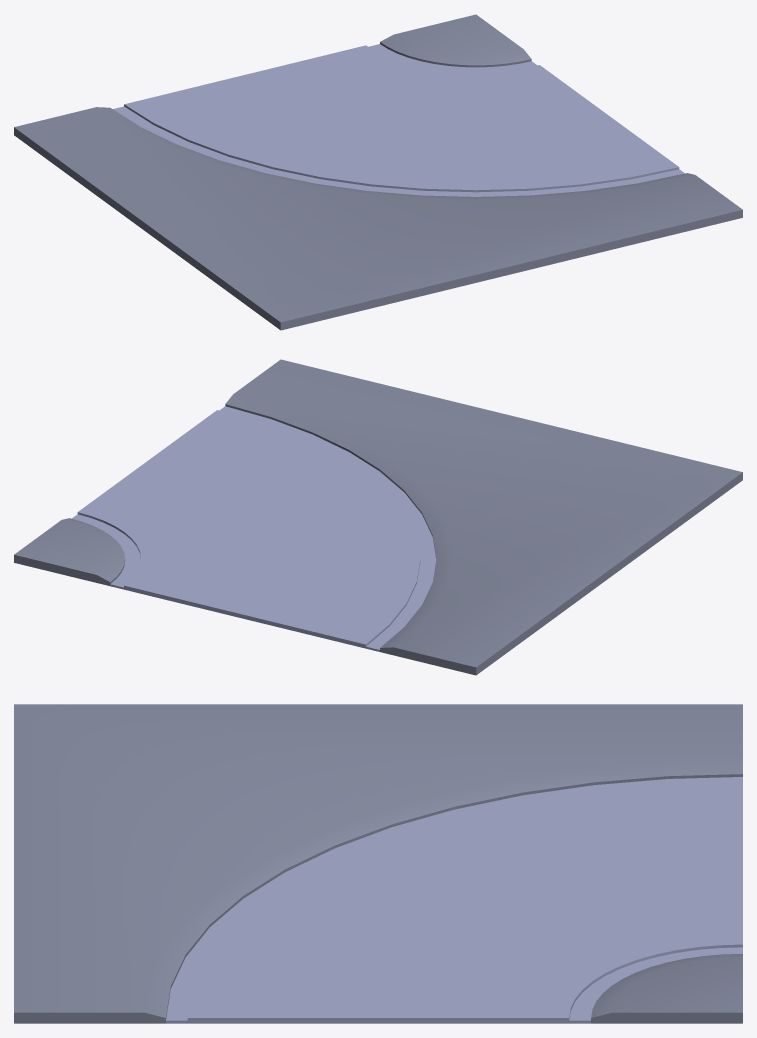
Rendered from road-bend.glb.
3 views of the same model, one above another, from view 1: azimuth 30°, elevation 25°; view 2: azimuth 150°, elevation 25°; view 3: azimuth 270°, elevation 25° (orthographic). The views are drawn at different scales.
Visible parts, largest first — view 1: road-bend; view 2: road-bend; view 3: road-bend.
Part boxes in pixels (box(x1,y1,x2,y2)): road-bend: box(14, 14, 742, 330); road-bend: box(14, 359, 742, 675); road-bend: box(14, 704, 742, 1023).
Bounding box in the file's own units: 3 × 0.05 × 3.
1 material, 1 textured.
